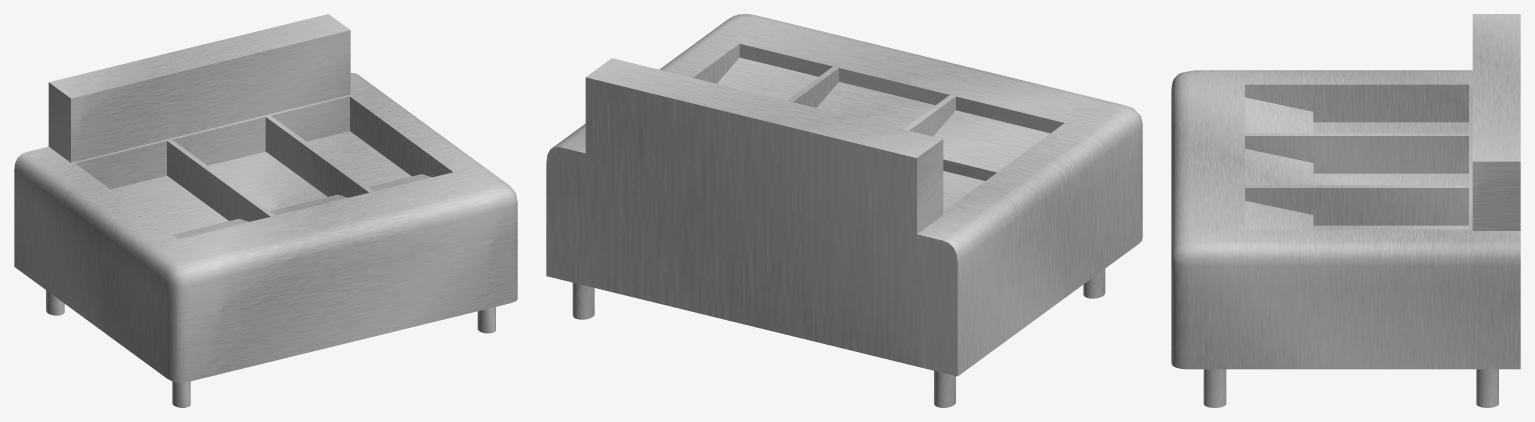
The model's file is Kitchen_Fryer_Unwrapped.fbx.
3 views of the same model, side by side, from view 1: azimuth 30°, elevation 25°; view 2: azimuth 150°, elevation 25°; view 3: azimuth 270°, elevation 25° (orthographic). The views are drawn at different scales.
Parts seen in each view (by area): view 1: Fryer, Cylinder021, Cylinder022; view 2: Fryer, Cylinder019, Cylinder020; view 3: Fryer, Cylinder022, Cylinder019.
Boxes of the visible parts, x1=… form: Fryer: x1=14, y1=14, x2=517, y2=382; Cylinder021: x1=172, y1=381, x2=190, y2=407; Cylinder022: x1=477, y1=307, x2=495, y2=333; Fryer: x1=546, y1=14, x2=1142, y2=376; Cylinder019: x1=572, y1=282, x2=594, y2=319; Cylinder020: x1=934, y1=371, x2=955, y2=407; Fryer: x1=1171, y1=14, x2=1520, y2=369; Cylinder022: x1=1203, y1=369, x2=1226, y2=407; Cylinder019: x1=1476, y1=369, x2=1498, y2=407.
Bounding box in the file's own units: 114 × 67.58 × 91.7.
